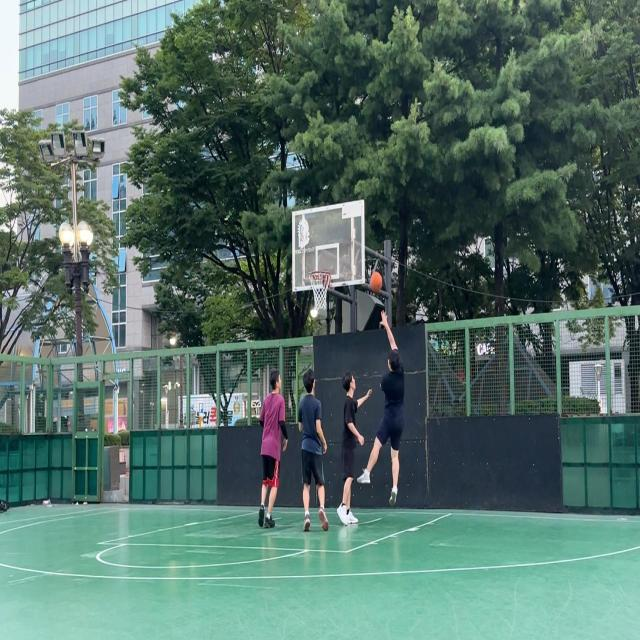basketball: (370, 271, 383, 294)
hoop: (308, 271, 330, 311)
